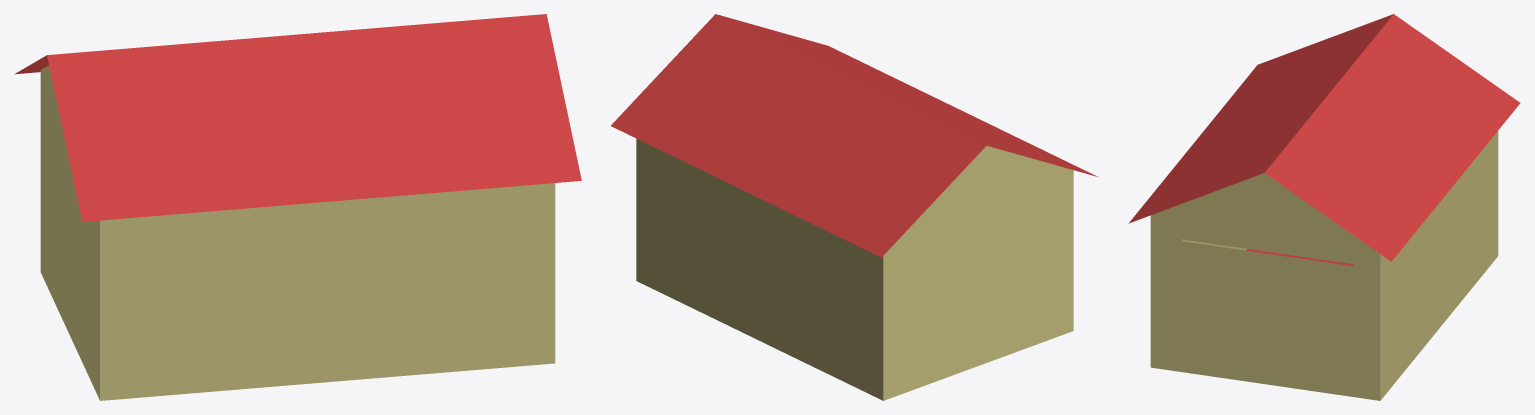
3 renders of one model, left to right at view 1: azimuth 30°, elevation 25°; view 2: azimuth 150°, elevation 25°; view 3: azimuth 270°, elevation 25°, orthographic. The views are drawn at different scales.
Size of the model in its own units: 19.83 by 16.68 by 10.28.
